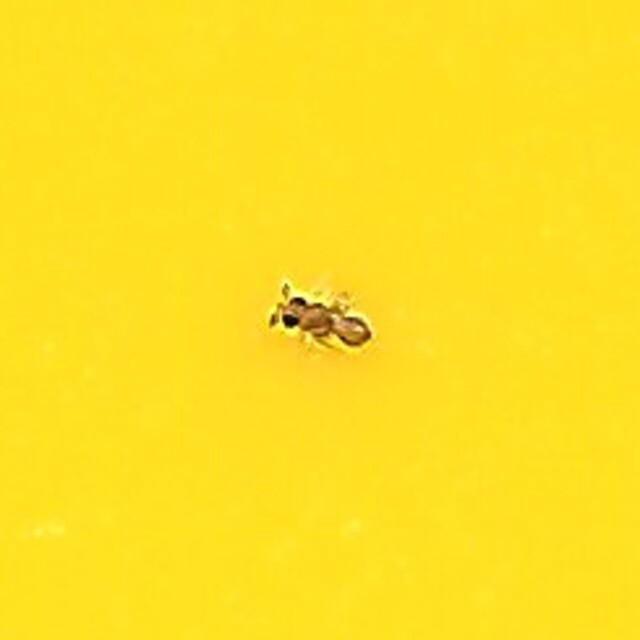Hymenoptera: (261, 281, 379, 359)
